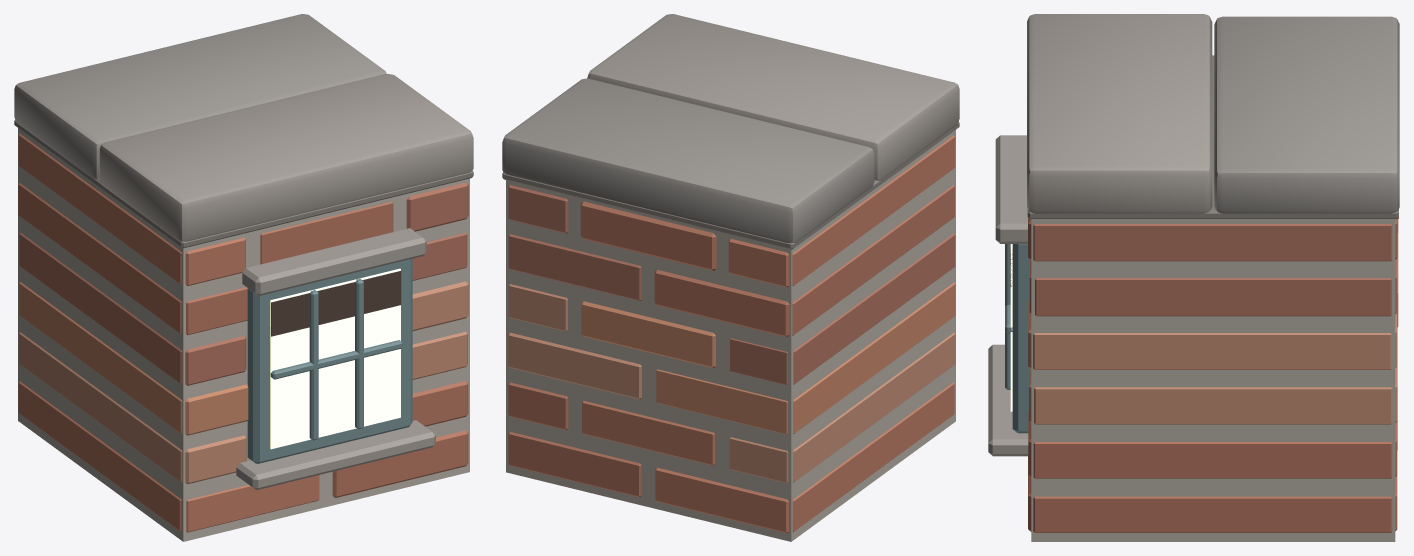
The model's file is window_wall.glb.
3 views of the same model, side by side, from view 1: azimuth 30°, elevation 25°; view 2: azimuth 150°, elevation 25°; view 3: azimuth 270°, elevation 25° (orthographic). The views are drawn at different scales.
Visible parts, largest first — view 1: window_wall; view 2: window_wall; view 3: window_wall.
Part boxes in pixels (box(x1,y1,x2,y2)): window_wall: box(14, 14, 473, 541); window_wall: box(502, 14, 959, 541); window_wall: box(988, 14, 1399, 541).
Bounding box in the file's own units: 1 × 1.1 × 1.1.
